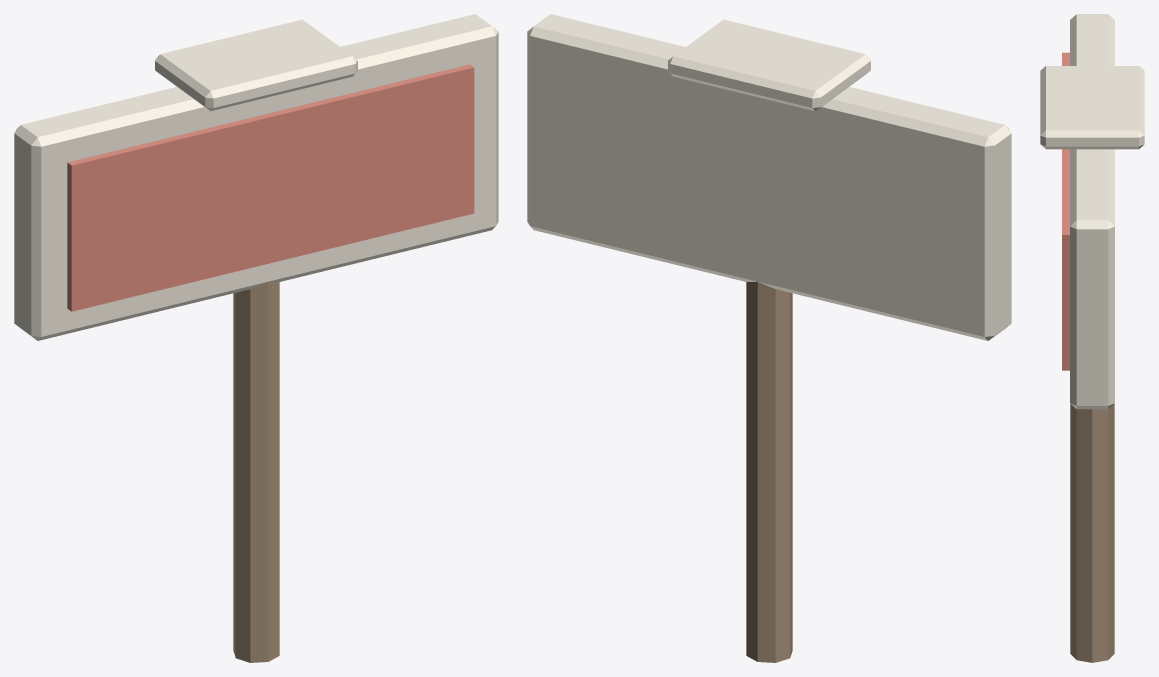
Rendered from diner_sign_far-iymOKlRR.glb.
3 views of the same model, side by side, from view 1: azimuth 30°, elevation 25°; view 2: azimuth 150°, elevation 25°; view 3: azimuth 270°, elevation 25° (orthographic). The views are drawn at different scales.
Visible parts, largest first — view 1: diner_sign_far; view 2: diner_sign_far; view 3: diner_sign_far.
Boxes of the visible parts, x1,y1,x2,y2 form: diner_sign_far: [14, 14, 498, 662]; diner_sign_far: [527, 14, 1011, 662]; diner_sign_far: [1040, 14, 1144, 662].
Size of the model in its own units: 7.2 by 8.8 by 1.5.
